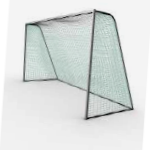goals: (22, 9, 136, 120)
